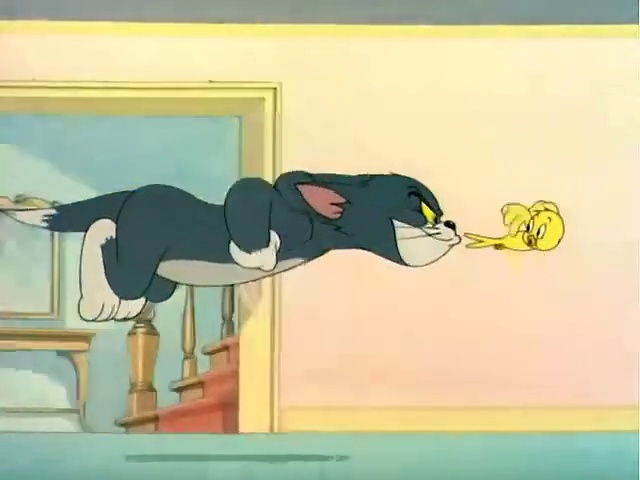tom: (14, 124, 465, 354)
